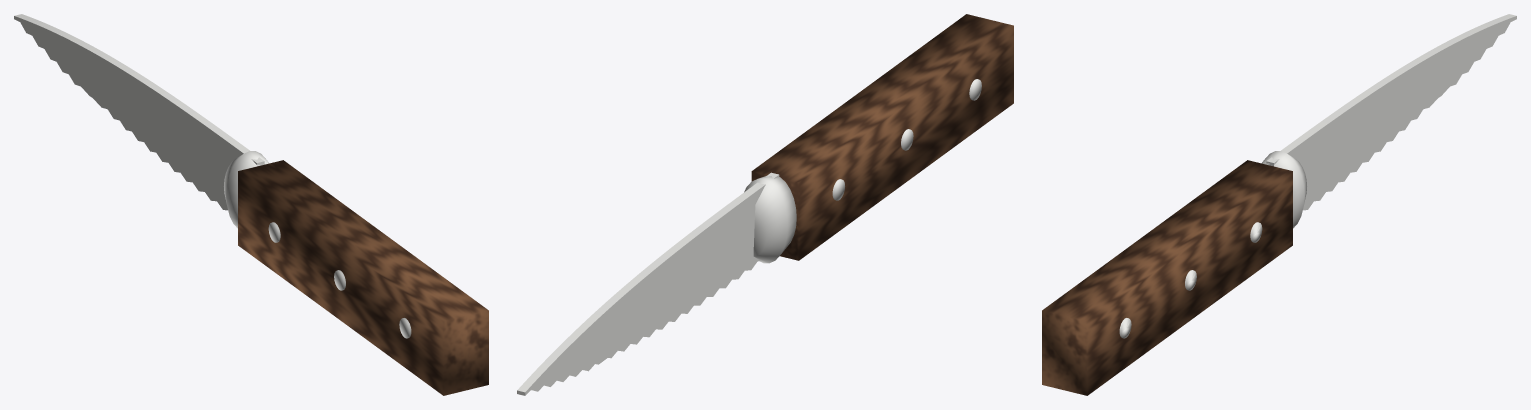
Rendered from Weapon_Knife.fbx.
The picture shows the model from 3 angles, left to right: view 1: azimuth 30°, elevation 25°; view 2: azimuth 150°, elevation 25°; view 3: azimuth 330°, elevation 25°; orthographic projection. The views are drawn at different scales.
Visible parts, largest first — view 1: Weapon_Knife_Game; view 2: Weapon_Knife_Game; view 3: Weapon_Knife_Game.
Boxes of the visible parts, x1,y1,x2,y2 form: Weapon_Knife_Game: [14, 14, 488, 395]; Weapon_Knife_Game: [517, 14, 1013, 395]; Weapon_Knife_Game: [1042, 14, 1516, 395].
Size of the model in its own units: 0.015 by 0.0239 by 0.24.
